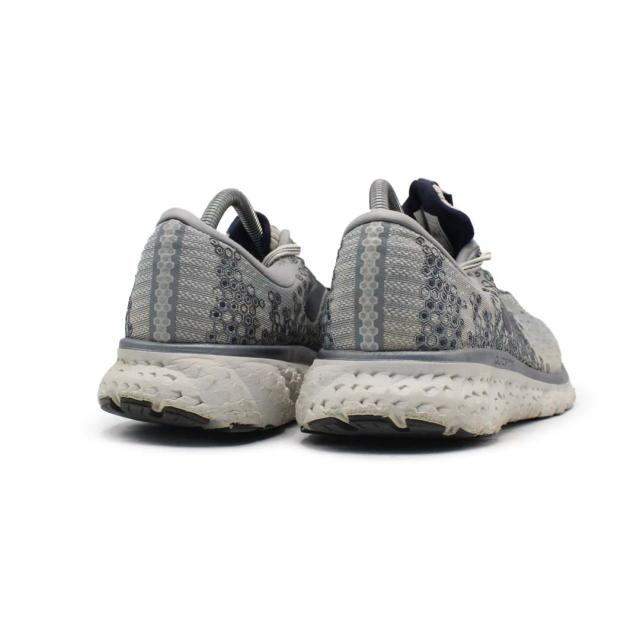heel: (125, 213, 300, 348), (322, 206, 472, 354)
midsole: (296, 349, 577, 442), (97, 340, 321, 435)
